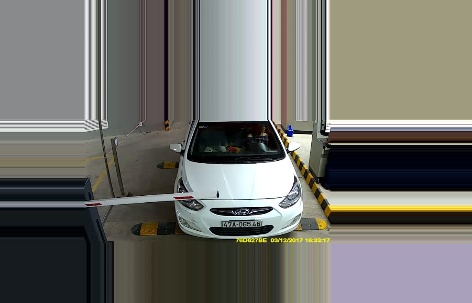plate: (223, 219, 263, 228)
